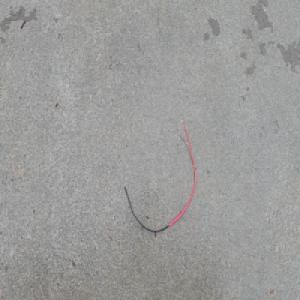Wire: (119, 114, 197, 232)
